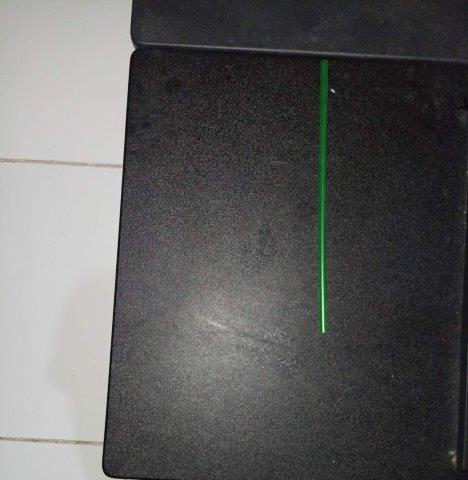sedotan: (319, 60, 328, 334)
